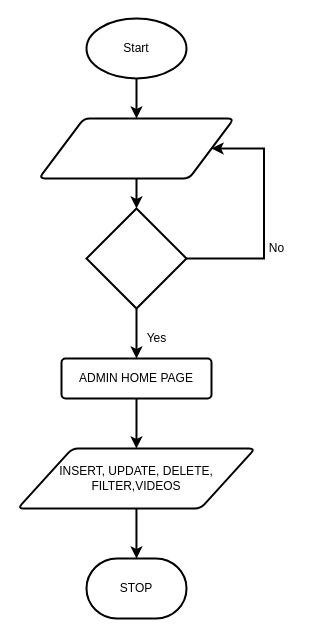
Some shapes in this 309 by 636 pixel diagram are drawn without their labels. The box of each missing label's shape, as (x1, y1, x2, y2) in pixels:
Admin Authentication: (85, 207, 187, 309)
INSERT USERNAME AND PASSWORD: (38, 117, 234, 179)
